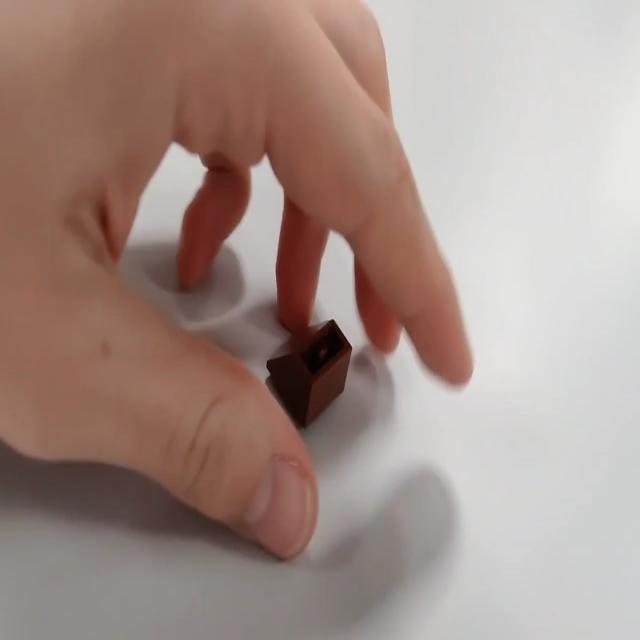X2x2x1: (265, 316, 353, 430)
